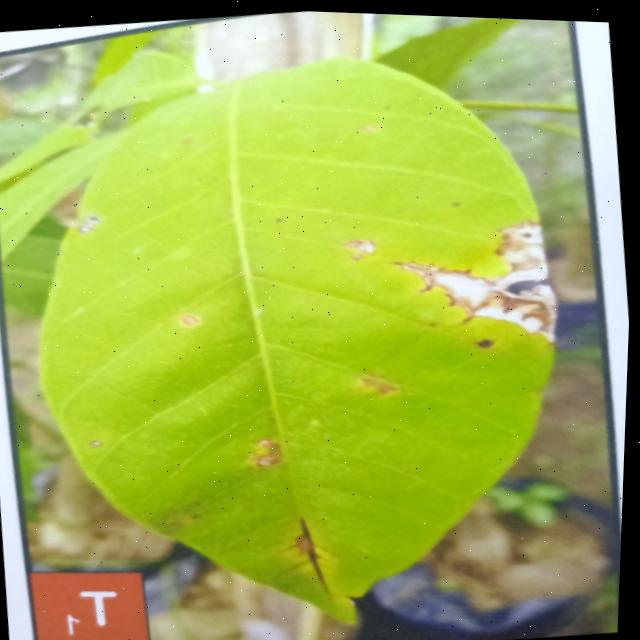Colletotrichum: (92, 439, 105, 447)
Corynespora: (276, 509, 347, 598)
Leaf-Blight: (397, 210, 563, 352)
